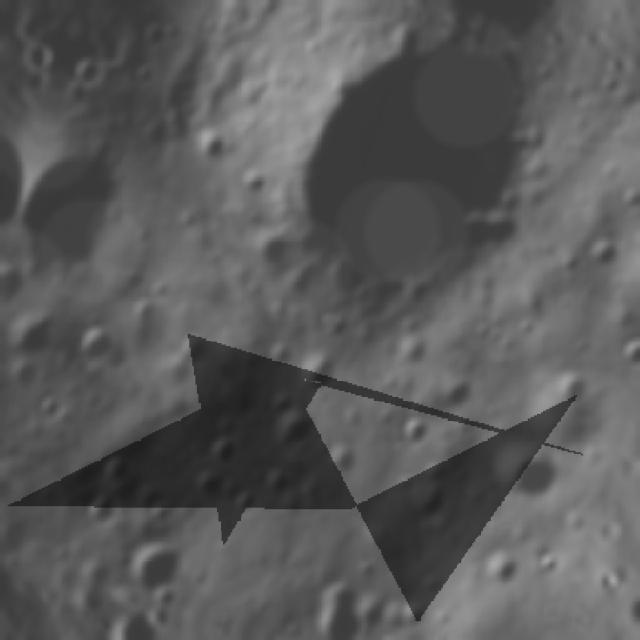crater: (236, 0, 567, 358), (4, 133, 130, 285), (484, 436, 565, 516), (305, 572, 386, 640), (121, 536, 197, 604), (259, 401, 319, 464), (70, 316, 128, 375), (289, 343, 345, 403), (575, 223, 630, 282), (476, 540, 530, 597), (3, 310, 59, 364), (547, 361, 596, 412), (250, 228, 296, 280), (152, 349, 202, 396), (79, 486, 126, 534), (393, 411, 441, 458), (69, 51, 114, 100), (106, 260, 151, 308), (187, 123, 233, 168), (435, 375, 482, 419), (182, 466, 227, 511), (94, 446, 138, 491), (324, 438, 368, 480), (5, 357, 46, 400), (32, 386, 72, 428), (260, 332, 300, 374), (175, 327, 216, 367), (124, 292, 164, 333), (202, 432, 242, 471), (225, 486, 264, 522), (0, 258, 28, 307), (532, 545, 566, 583), (372, 629, 411, 640)
